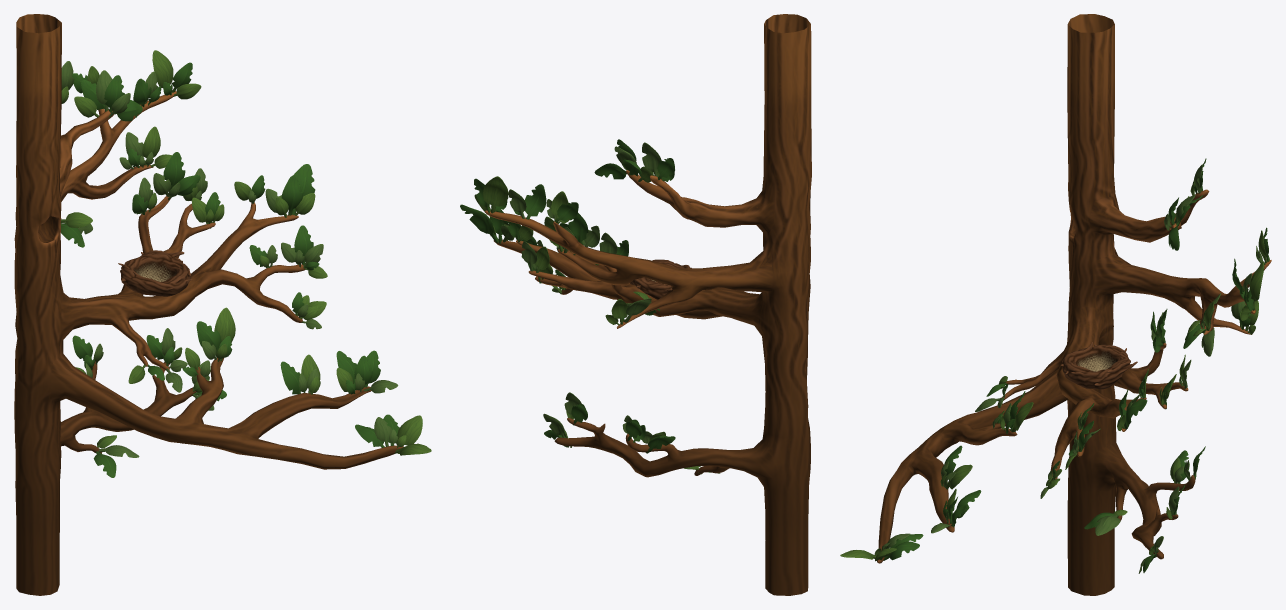
The model's file is tree.glb.
The picture shows the model from 3 angles, left to right: view 1: azimuth 30°, elevation 25°; view 2: azimuth 150°, elevation 25°; view 3: azimuth 270°, elevation 25°; orthographic projection.
Parts seen in each view (by area): view 1: Tree_low, Leav_1_low, Leav_3_low, Leav_2_low, Nest_low; view 2: Tree_low, Leav_1_low, Leav_2_low, Leav_3_low, Nest_low; view 3: Tree_low, Leav_1_low, Leav_2_low, Leav_3_low, Nest_low.
Boxes of the visible parts, <box> form: Tree_low: <box>14,14,403,595</box>; Leav_1_low: <box>61,62,399,477</box>; Leav_3_low: <box>61,50,431,455</box>; Leav_2_low: <box>60,61,398,457</box>; Nest_low: <box>118,250,191,296</box>; Tree_low: <box>484,14,811,595</box>; Leav_1_low: <box>460,139,720,473</box>; Leav_2_low: <box>501,142,702,474</box>; Leav_3_low: <box>474,166,699,469</box>; Nest_low: <box>630,259,691,299</box>; Tree_low: <box>877,14,1271,595</box>; Leav_1_low: <box>883,158,1269,572</box>; Leav_2_low: <box>881,164,1265,573</box>; Leav_3_low: <box>840,183,1267,561</box>; Nest_low: <box>1061,342,1137,389</box>.
Bounding box in the file's own units: 29.54 × 49.54 × 34.4.
3 materials, 3 textured.
